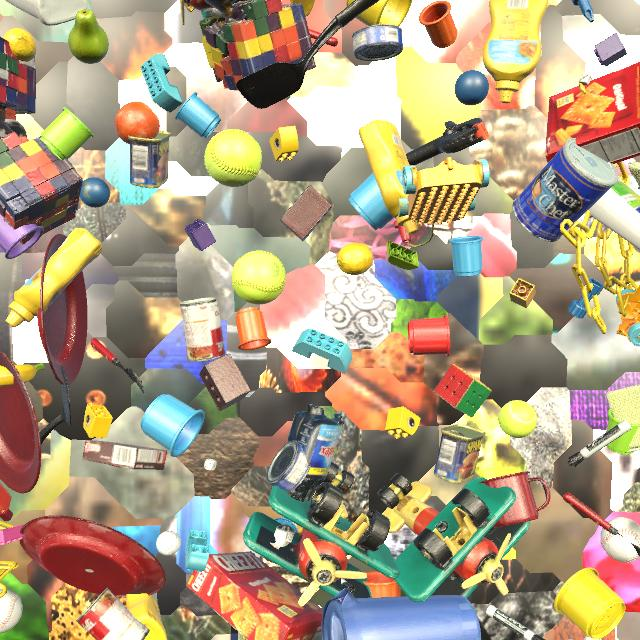ycb_002_master_chef_can: (512, 138, 618, 242)
ycb_003_cracker_box: (186, 551, 323, 640), (545, 62, 640, 164)
ycb_005_tomato_soup_can: (76, 588, 150, 640), (180, 297, 225, 362)
ycb_006_mustard_bottle: (6, 228, 103, 328), (359, 120, 419, 234), (482, 0, 548, 103), (126, 593, 167, 640)
ycb_007_tuna_fish_can: (267, 440, 311, 491), (352, 24, 403, 61)
ycb_008_pudding_box: (82, 440, 168, 470)
ycb_010_potted_meat_can: (434, 424, 486, 484), (128, 131, 171, 188)
ycb_011_banana: (0, 363, 45, 386)
ycb_014_lemon: (337, 243, 374, 275), (3, 28, 36, 62)
ycb_016_pear: (68, 9, 109, 64)
ycb_017_orange: (115, 102, 160, 144)
